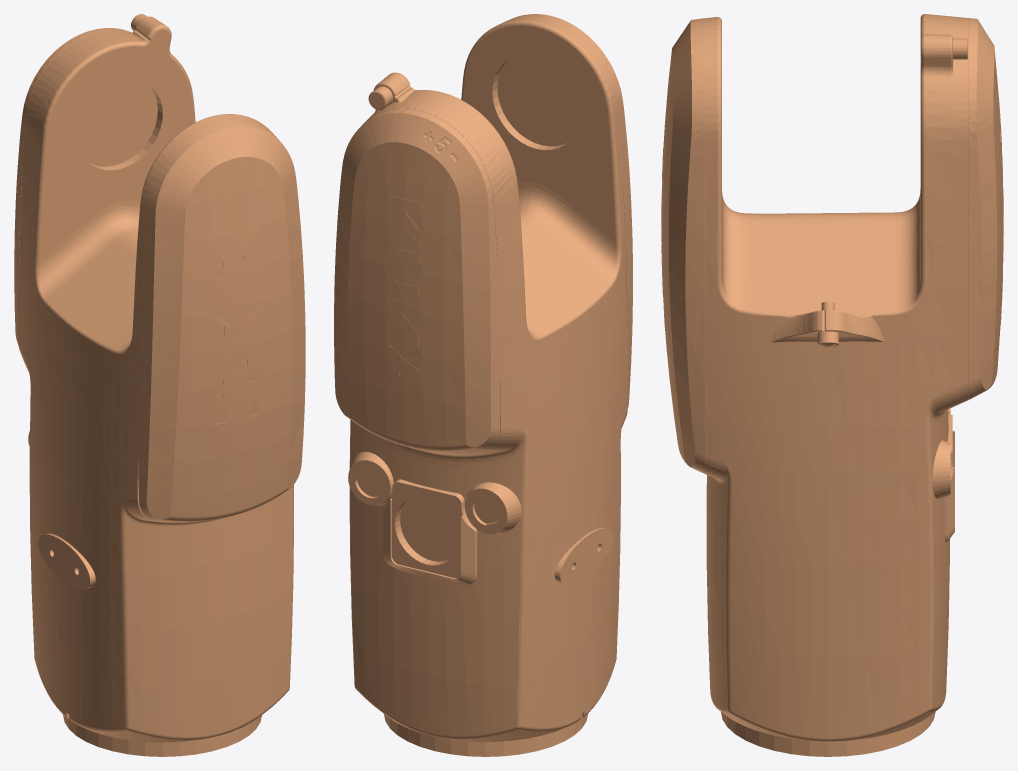
3 views of the same model, side by side, from view 1: azimuth 30°, elevation 25°; view 2: azimuth 150°, elevation 25°; view 3: azimuth 270°, elevation 25° (orthographic). The views are drawn at different scales.
Parts seen in each view (by area): view 1: Link4; view 2: Link4; view 3: Link4.
Part boxes in pixels (bbox=[...]): Link4: bbox=[14, 14, 305, 756]; Link4: bbox=[334, 14, 632, 756]; Link4: bbox=[661, 14, 1003, 756].
Bounding box in the file's own units: 0.127 × 0.1595 × 0.3585.
